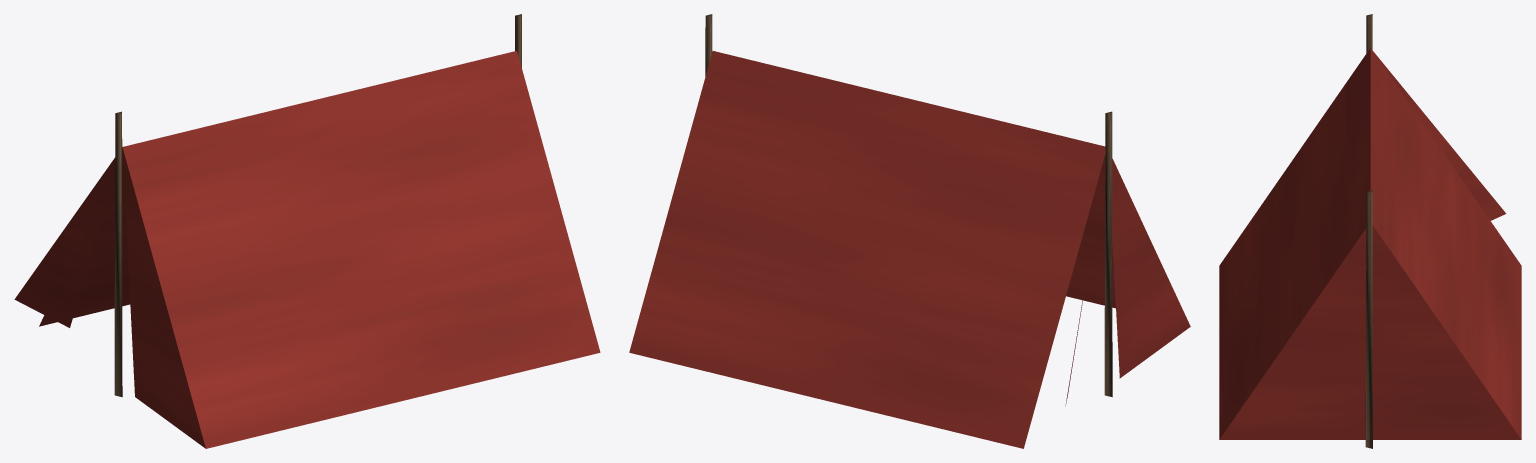
Rendered from Tent_Pilgrim_4_LOD1.gltf.
3 views of the same model, side by side, from view 1: azimuth 30°, elevation 25°; view 2: azimuth 150°, elevation 25°; view 3: azimuth 270°, elevation 25° (orthographic). The views are drawn at different scales.
Parts seen in each view (by area): view 1: Tent_Pilgrim_4_LOD1; view 2: Tent_Pilgrim_4_LOD1; view 3: Tent_Pilgrim_4_LOD1.
Part boxes in pixels (left/top/right/bottom): Tent_Pilgrim_4_LOD1: left=14, top=14, right=600, bottom=448; Tent_Pilgrim_4_LOD1: left=629, top=14, right=1190, bottom=448; Tent_Pilgrim_4_LOD1: left=1219, top=14, right=1521, bottom=448.
Bounding box in the file's own units: 4.95 × 3.07 × 3.3.
Materials: 2 (2 with a texture image).
